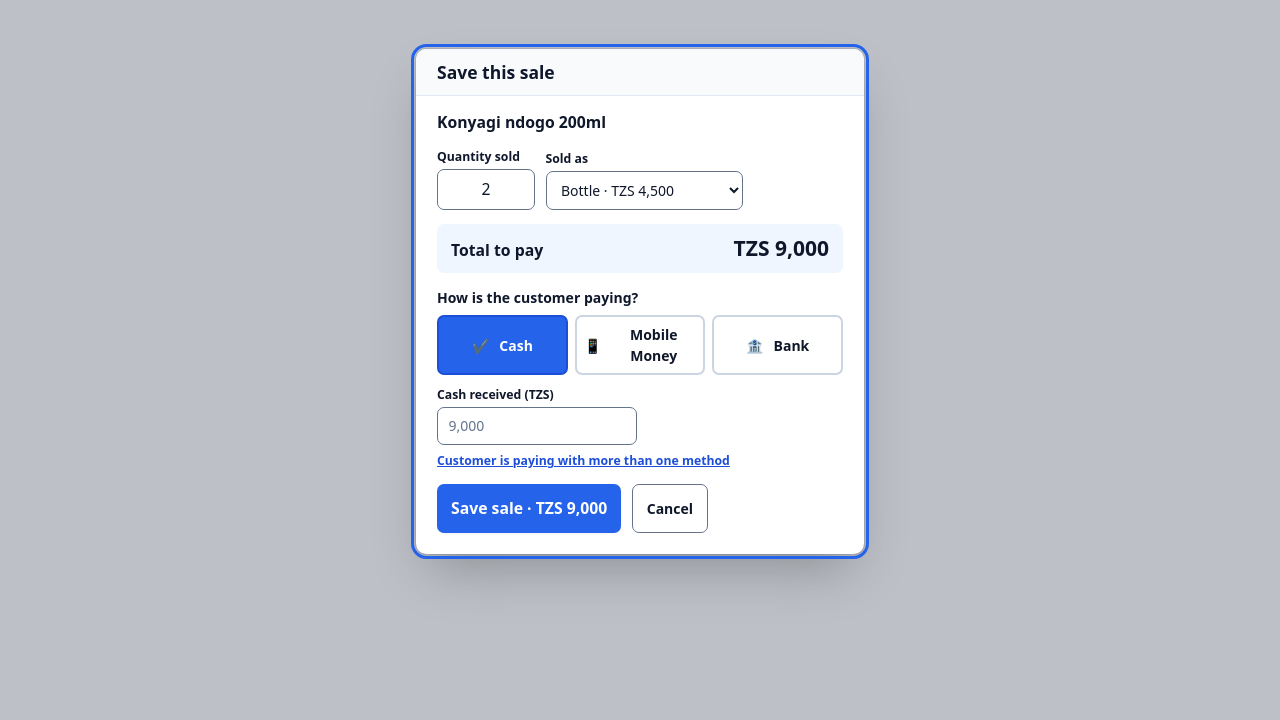
Test case: a sale typed on the Daily Sheet › shows change for cash and blocks saving when the amount is too small
This screenshot has width=1280, height=720.
expect the radio button labelled "✔ Cash" is shown: met, box [437, 315, 568, 375]
expect the dropdown labelled "Sold as" is shown: met, box [546, 171, 742, 210]
Type "5000" into the field labelled "Cash received (TZS)" at (537, 426), box [437, 406, 636, 445]
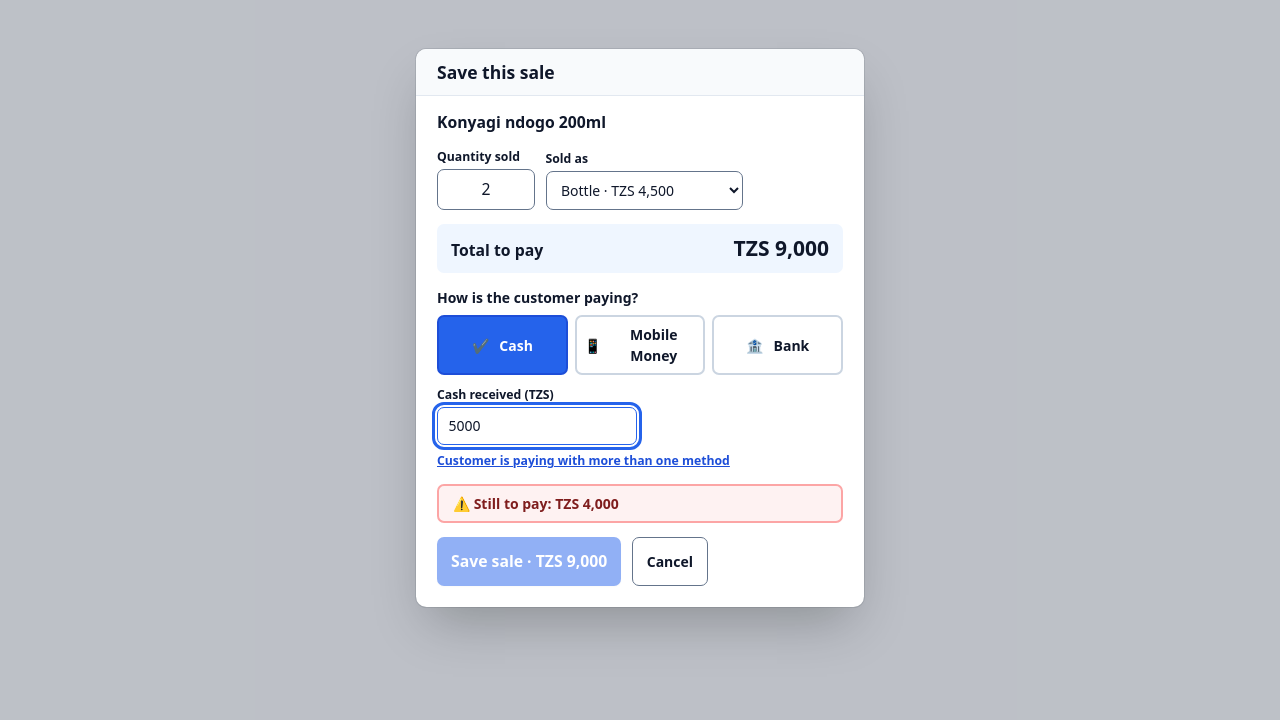
expect the text "⚠ Still to pay: TZS 4,000" is shown: met, box [453, 494, 619, 512]
expect the button "Save sale · TZS 9,000" is disabled: met, box [437, 536, 621, 586]
Replace the text in the field labelled "Cash received (TZS)" with "10000" at (537, 426), box [437, 406, 636, 445]
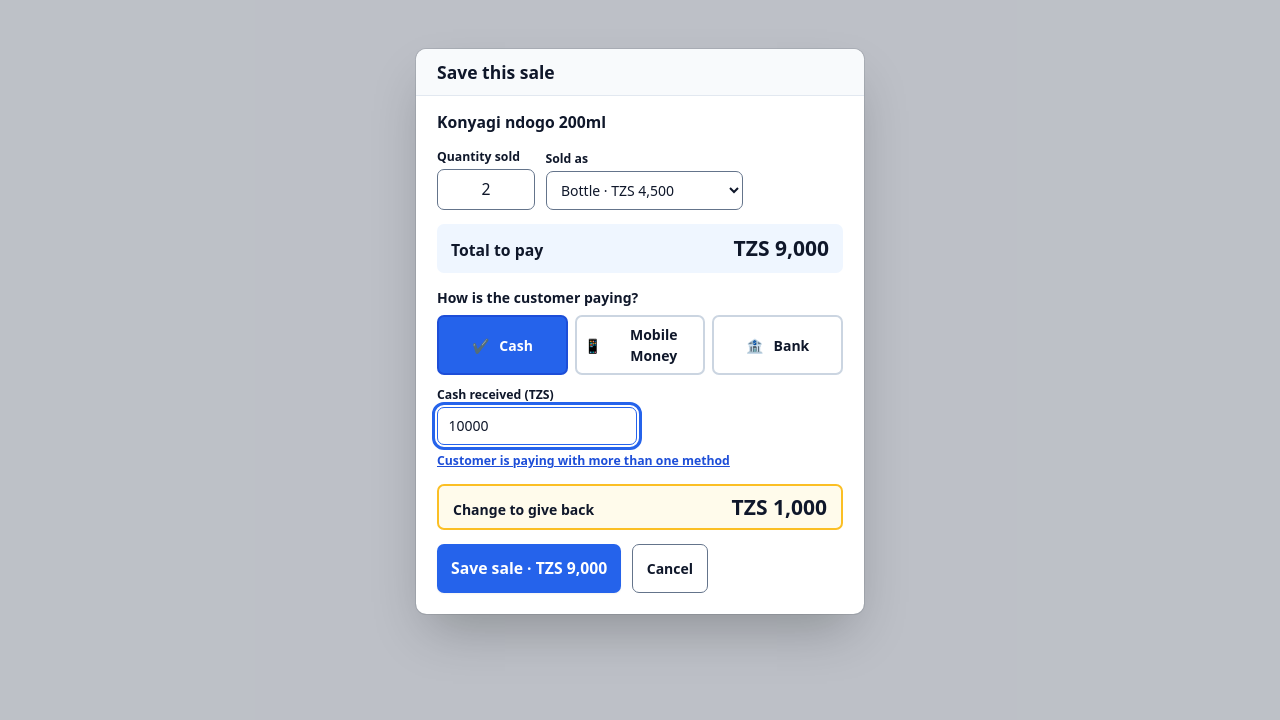
expect the button "Save sale · TZS 9,000" is enabled: met, box [437, 544, 621, 592]
expect the text "Change to give back" is shown: met, box [453, 498, 594, 520]
